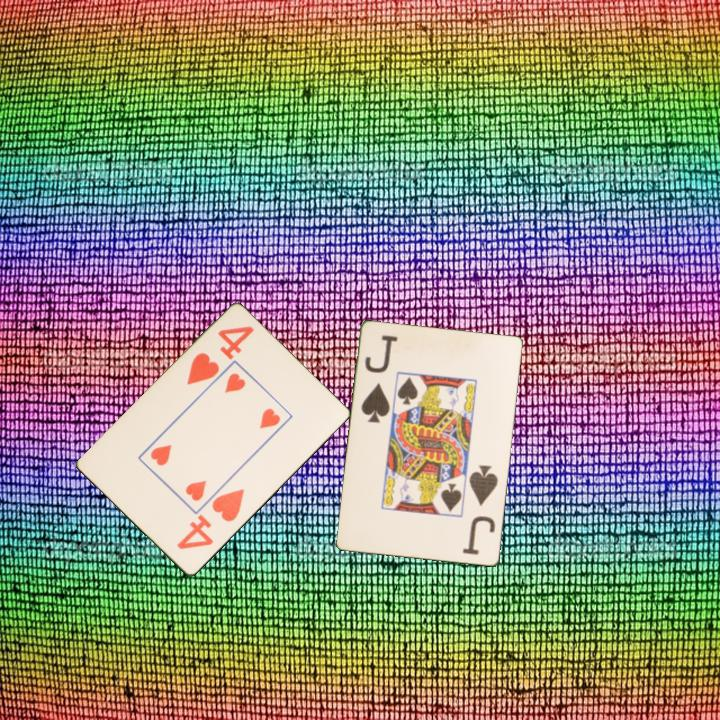4h: (173, 485, 247, 553), (183, 323, 257, 388)
Js: (358, 332, 401, 426), (459, 462, 501, 558)
